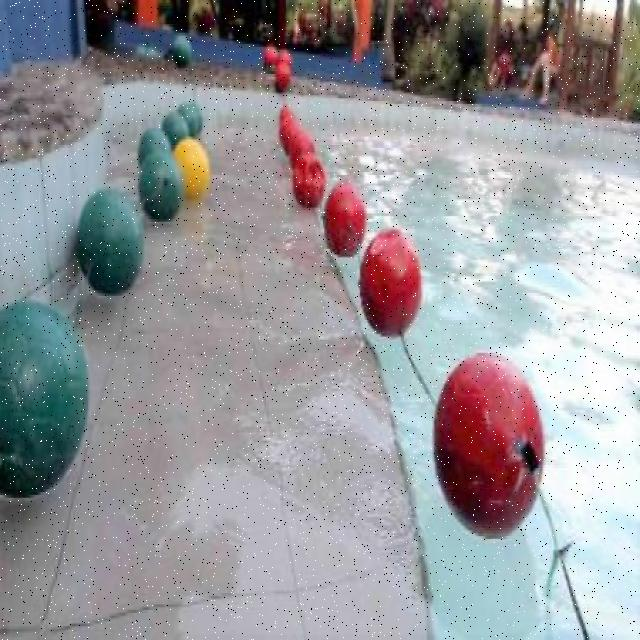buoy: (431, 348, 545, 538), (2, 300, 88, 499), (74, 186, 144, 295), (358, 227, 422, 336), (323, 179, 367, 259), (137, 151, 183, 222), (171, 136, 210, 202), (292, 151, 324, 210), (136, 126, 171, 176), (160, 110, 188, 154), (290, 129, 314, 173), (175, 102, 200, 138), (172, 34, 192, 70), (281, 119, 301, 154), (273, 62, 290, 92), (261, 42, 277, 72)
